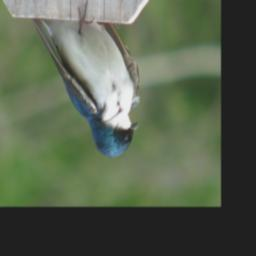Swallow: (30, 0, 142, 160)
